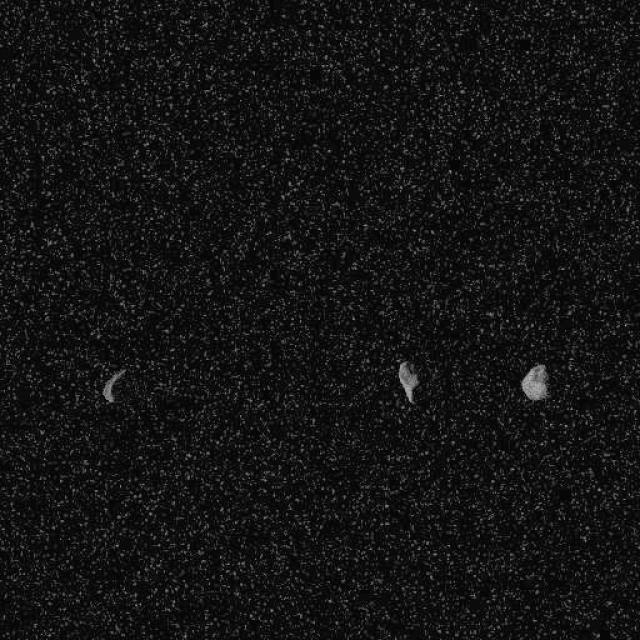D2: (520, 362, 549, 402), (396, 358, 420, 404), (102, 368, 126, 403)
